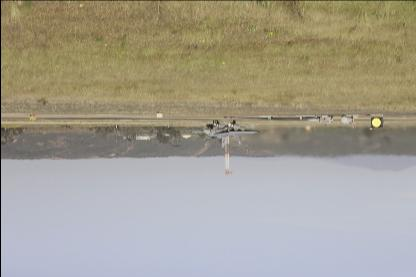F15: (190, 120, 260, 147)
